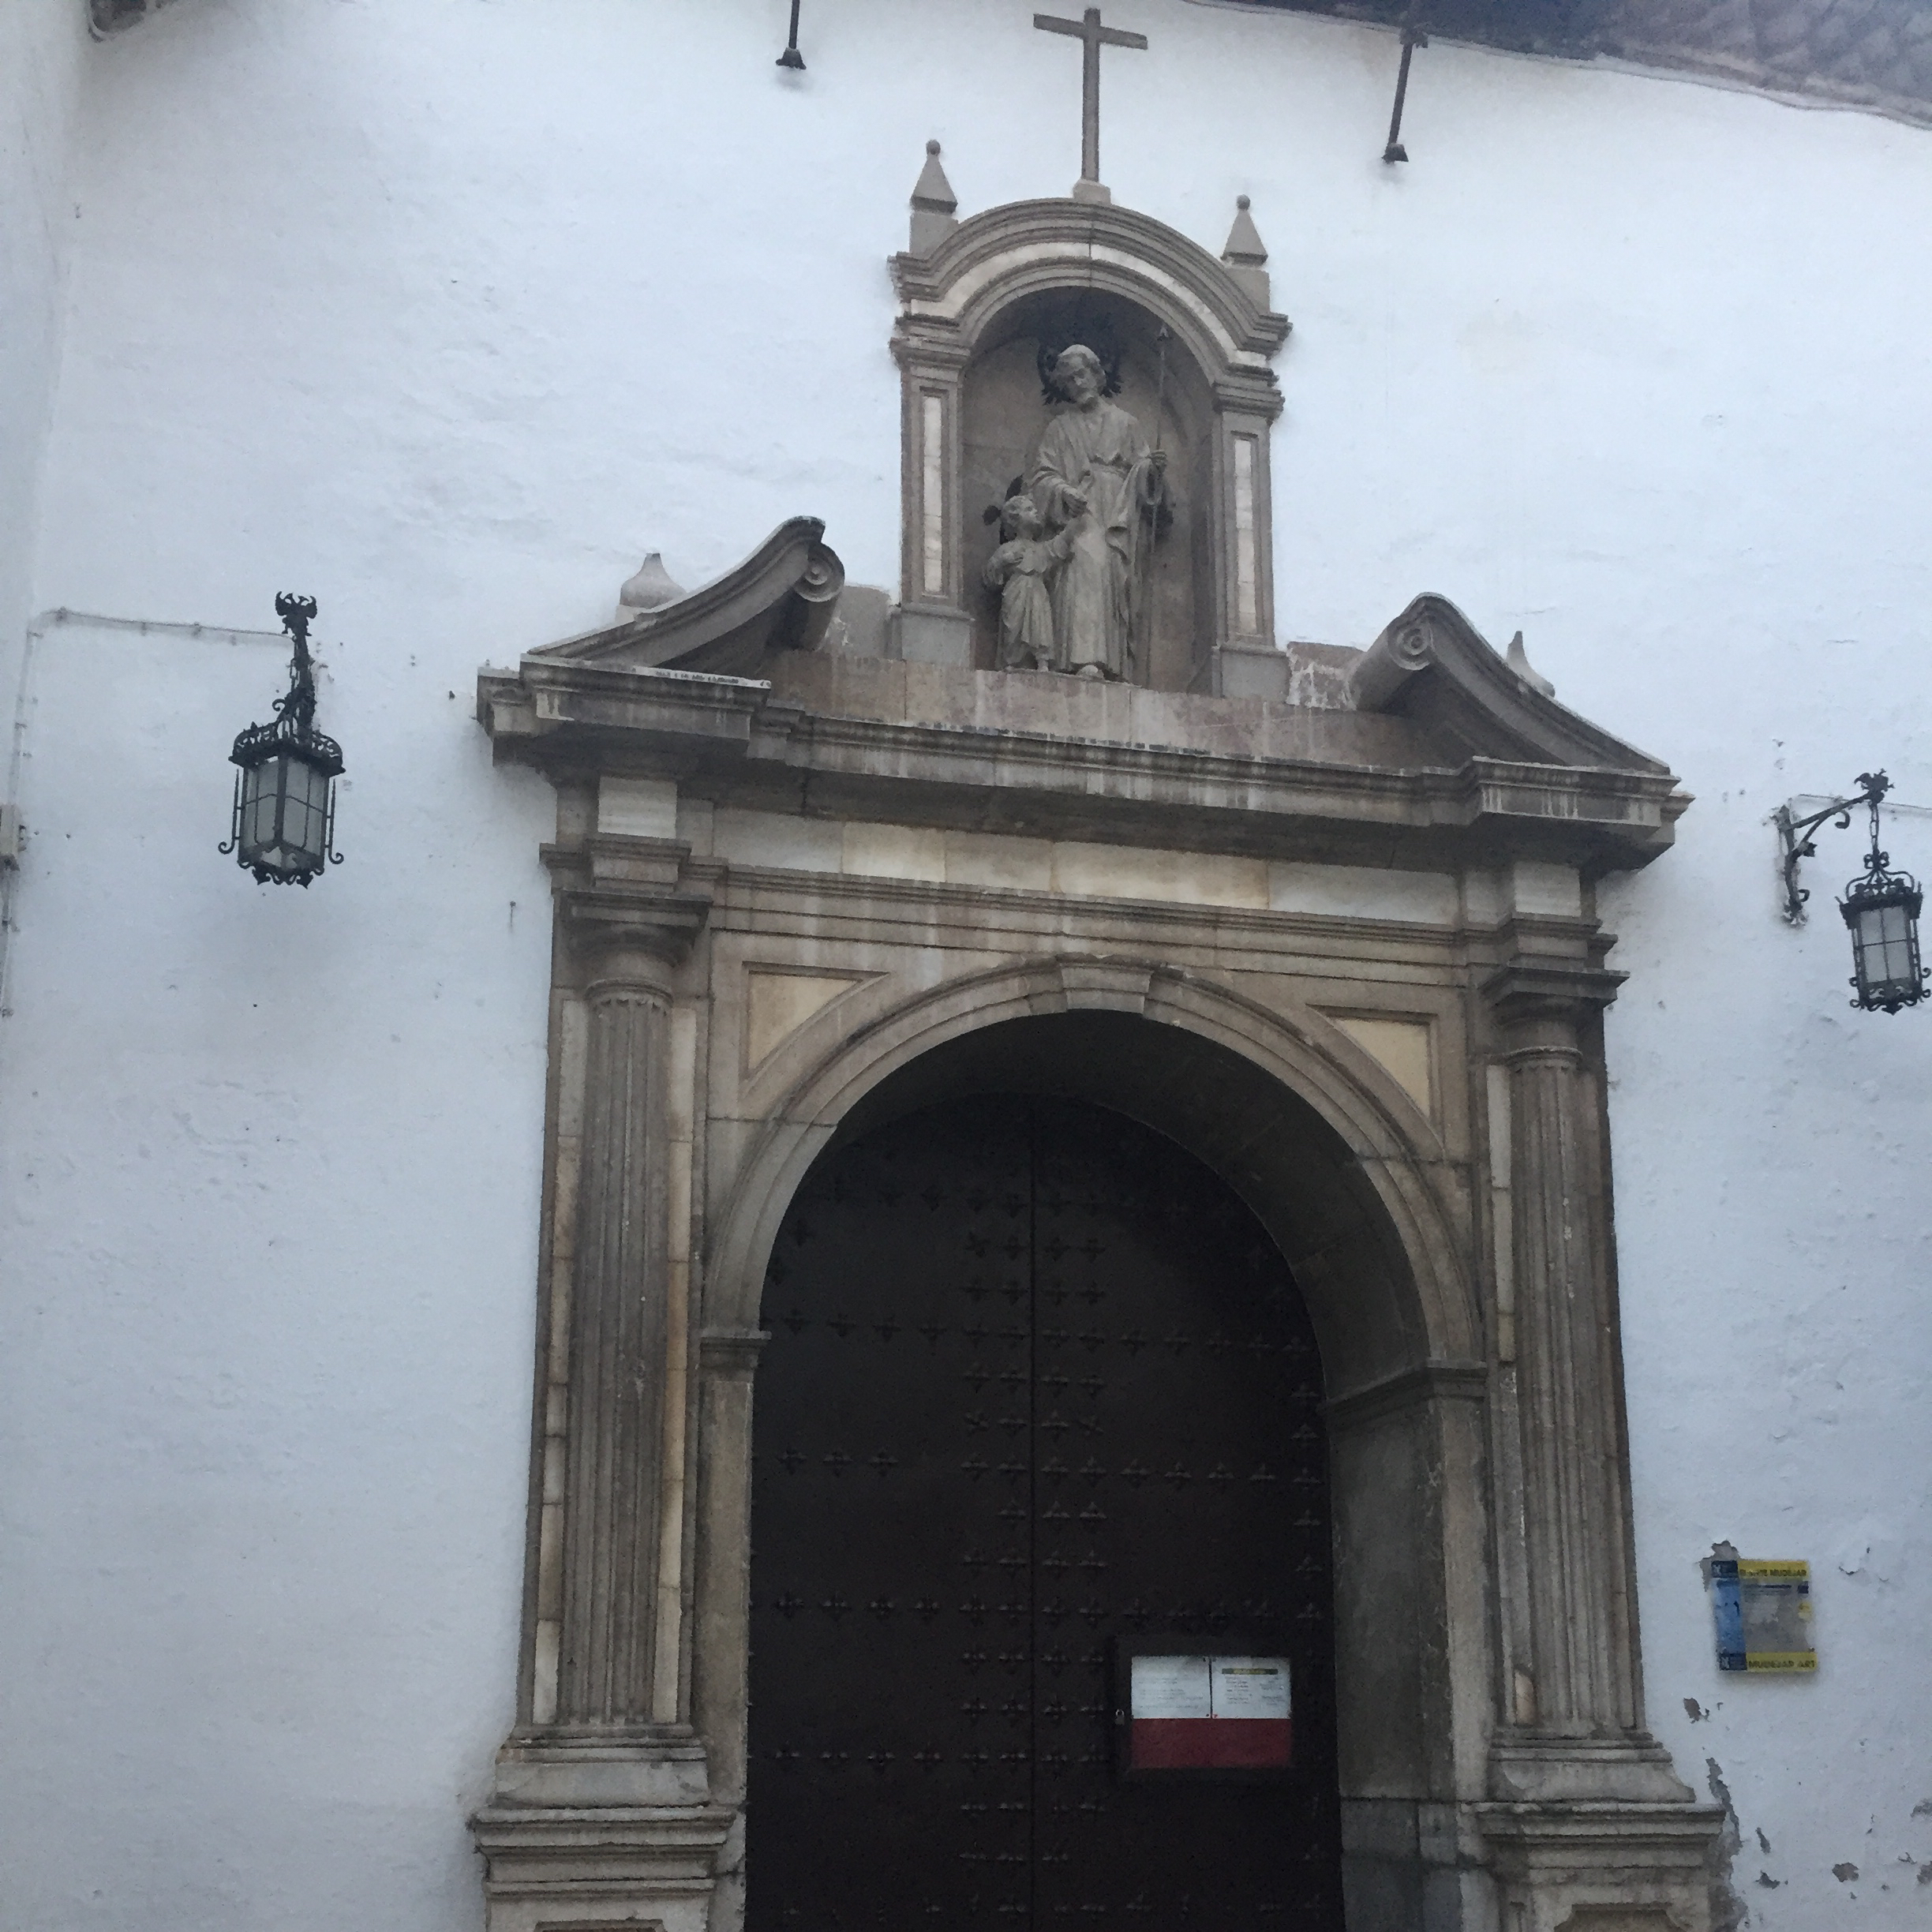arco-medio-punto: (709, 964, 1460, 1477), (941, 269, 1238, 425)
fronton-partido: (494, 520, 1714, 805)
